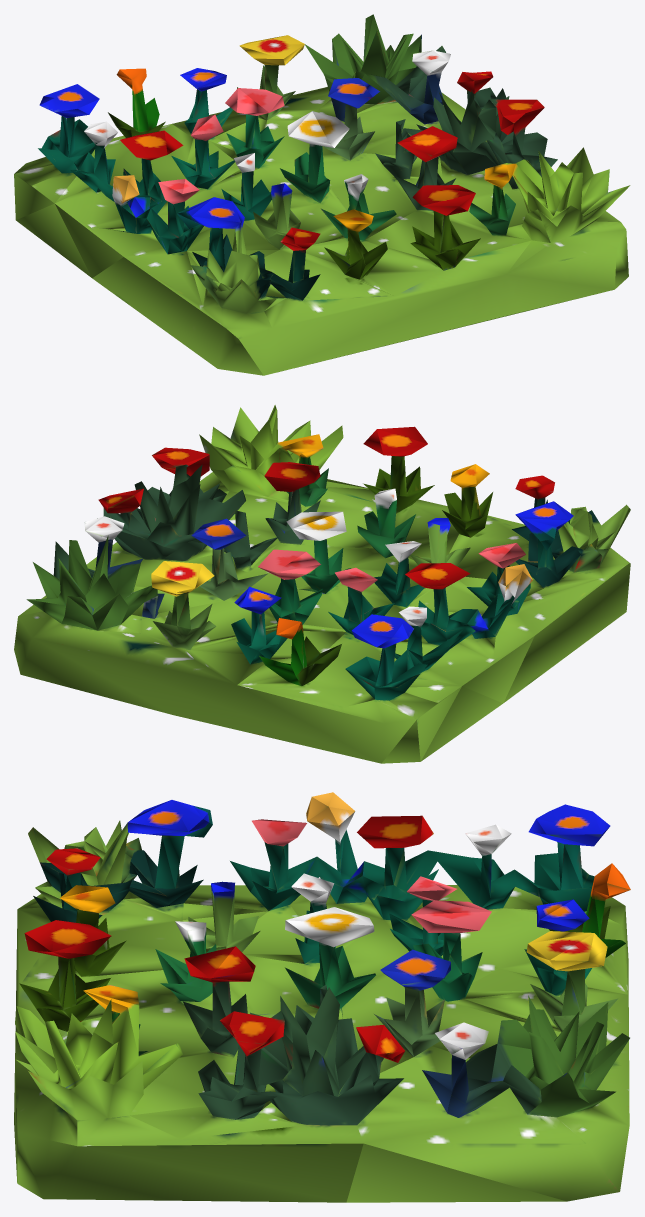
File: wildflower-meadow.glb
3 renders of one model, top to bottom at view 1: azimuth 30°, elevation 25°; view 2: azimuth 150°, elevation 25°; view 3: azimuth 270°, elevation 25°, orthographic. The views are drawn at different scales.
Visible parts, largest first — view 1: geometry_0; view 2: geometry_0; view 3: geometry_0.
Part boxes in pixels (left/top/right/bottom): geometry_0: left=14, top=14, right=630, bottom=375; geometry_0: left=14, top=405, right=630, bottom=763; geometry_0: left=14, top=792, right=630, bottom=1202.
Size of the model in its own units: 0.9897 by 0.292 by 0.9944.
1 material, 1 textured.
